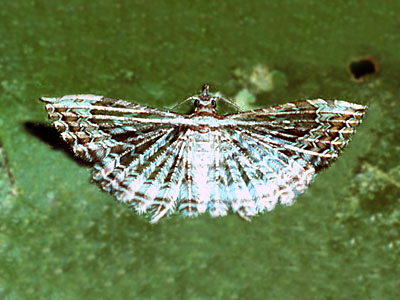Alucitidae: (35, 79, 370, 223)
moth: (37, 81, 372, 225)
